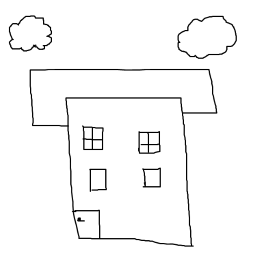closed_window: (137, 130, 161, 154), (83, 126, 103, 151)
clouds: (172, 13, 238, 60), (9, 15, 52, 51)
door: (74, 210, 101, 239)
open_window: (89, 168, 107, 191), (143, 168, 162, 188)
roof: (30, 67, 219, 125)
wall: (64, 96, 194, 246)
